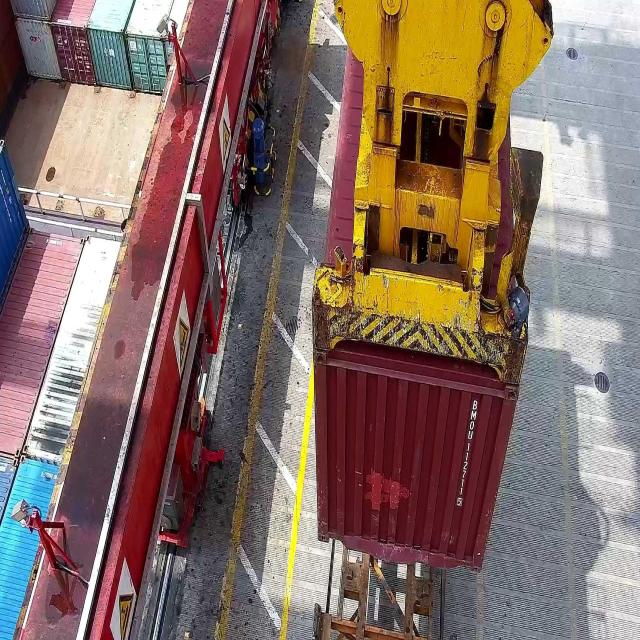dent: (337, 531, 481, 590)
